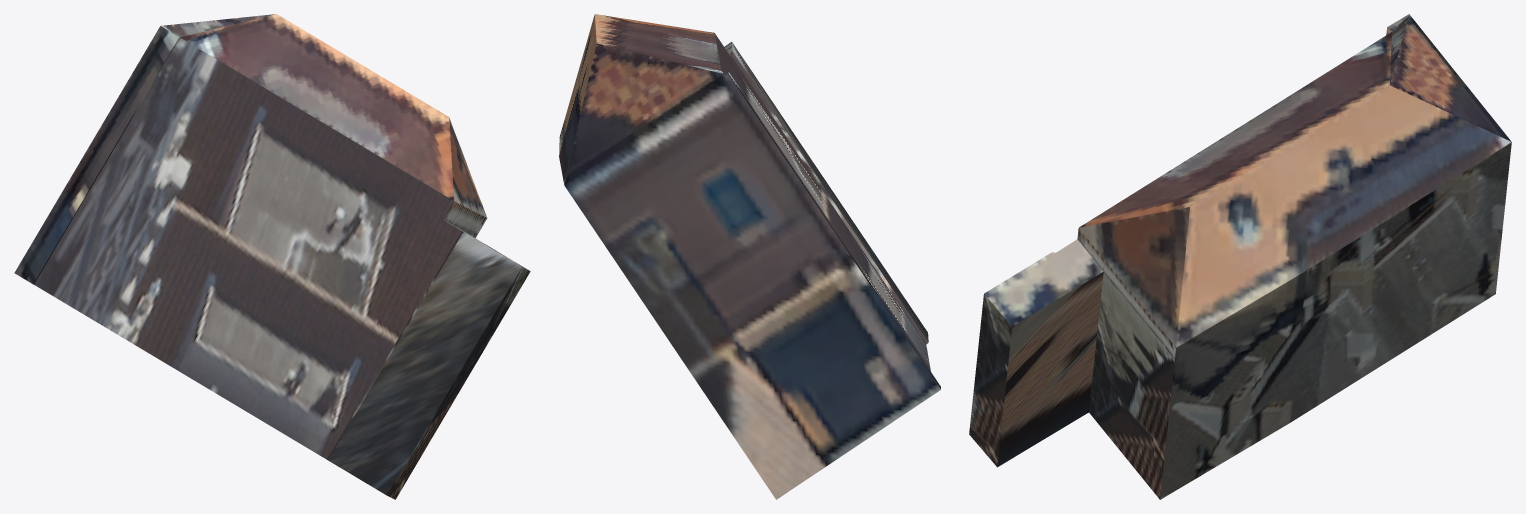
The picture shows the model from 3 angles, left to right: view 1: azimuth 30°, elevation 25°; view 2: azimuth 150°, elevation 25°; view 3: azimuth 270°, elevation 25°; orthographic projection. The views are drawn at different scales.
Parts seen in each view (by area): view 1: BAG_0599100000650099 (×5); view 2: BAG_0599100000650099 (×5); view 3: BAG_0599100000650099 (×3).
Boxes of the visible parts, x1,y1,x2,y2 form: BAG_0599100000650099 (×5): (14,14,530,499); BAG_0599100000650099 (×5): (559,14,940,499); BAG_0599100000650099 (×3): (969,14,1511,499).
Bounding box in the file's own units: 13.49 × 12.87 × 14.27.
1 material, 1 textured.
